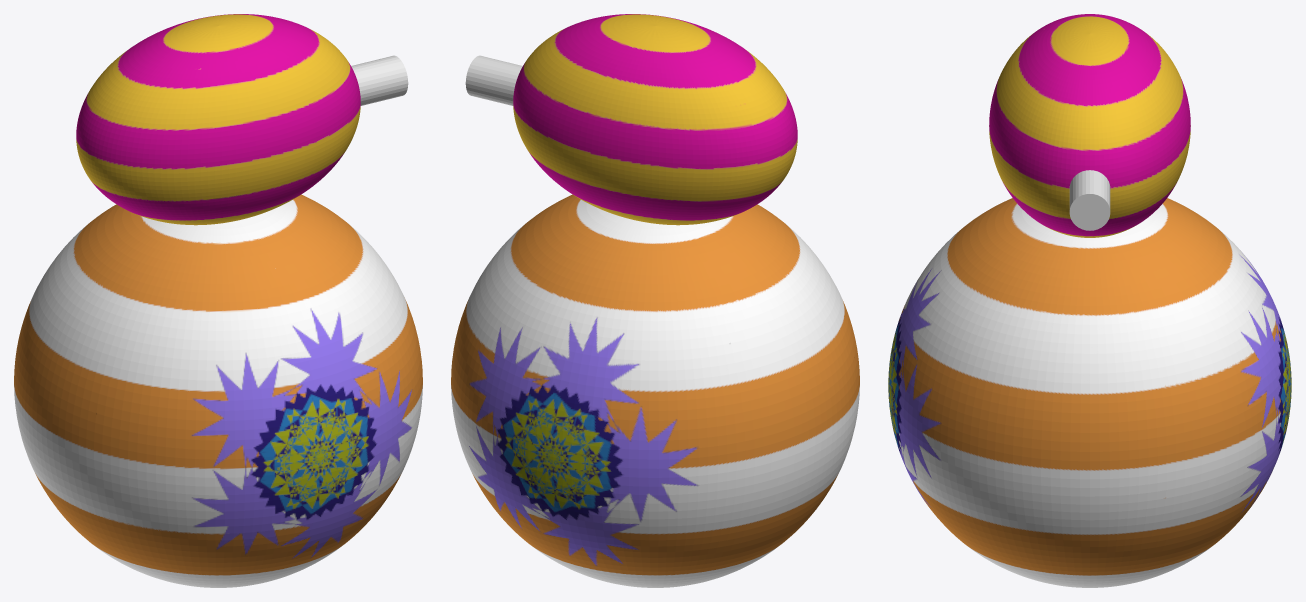
File: BOD0_BMC2_BCC5_BPT1_FRC21_HEA1_HMC6_HCC10_HPT1_ELT0_ERT1_ELL2_ERL2_AP0_AAL2_AAR2_BEK0.fbx
3 renders of one model, left to right at view 1: azimuth 30°, elevation 25°; view 2: azimuth 150°, elevation 25°; view 3: azimuth 270°, elevation 25°, orthographic.
Visible parts, largest first — view 1: Body, Ear; view 2: Body, Ear; view 3: Body, Ear.
Boxes of the visible parts, left/top/right/bottom form: Body: left=14, top=14, right=422, bottom=587; Ear: left=351, top=55, right=408, bottom=105; Body: left=451, top=14, right=859, bottom=587; Ear: left=465, top=55, right=522, bottom=105; Body: left=888, top=14, right=1291, bottom=587; Ear: left=1069, top=170, right=1110, bottom=230.
Bounding box in the file's own units: 49.68 × 72.41 × 49.36.
1 material, 1 textured.
